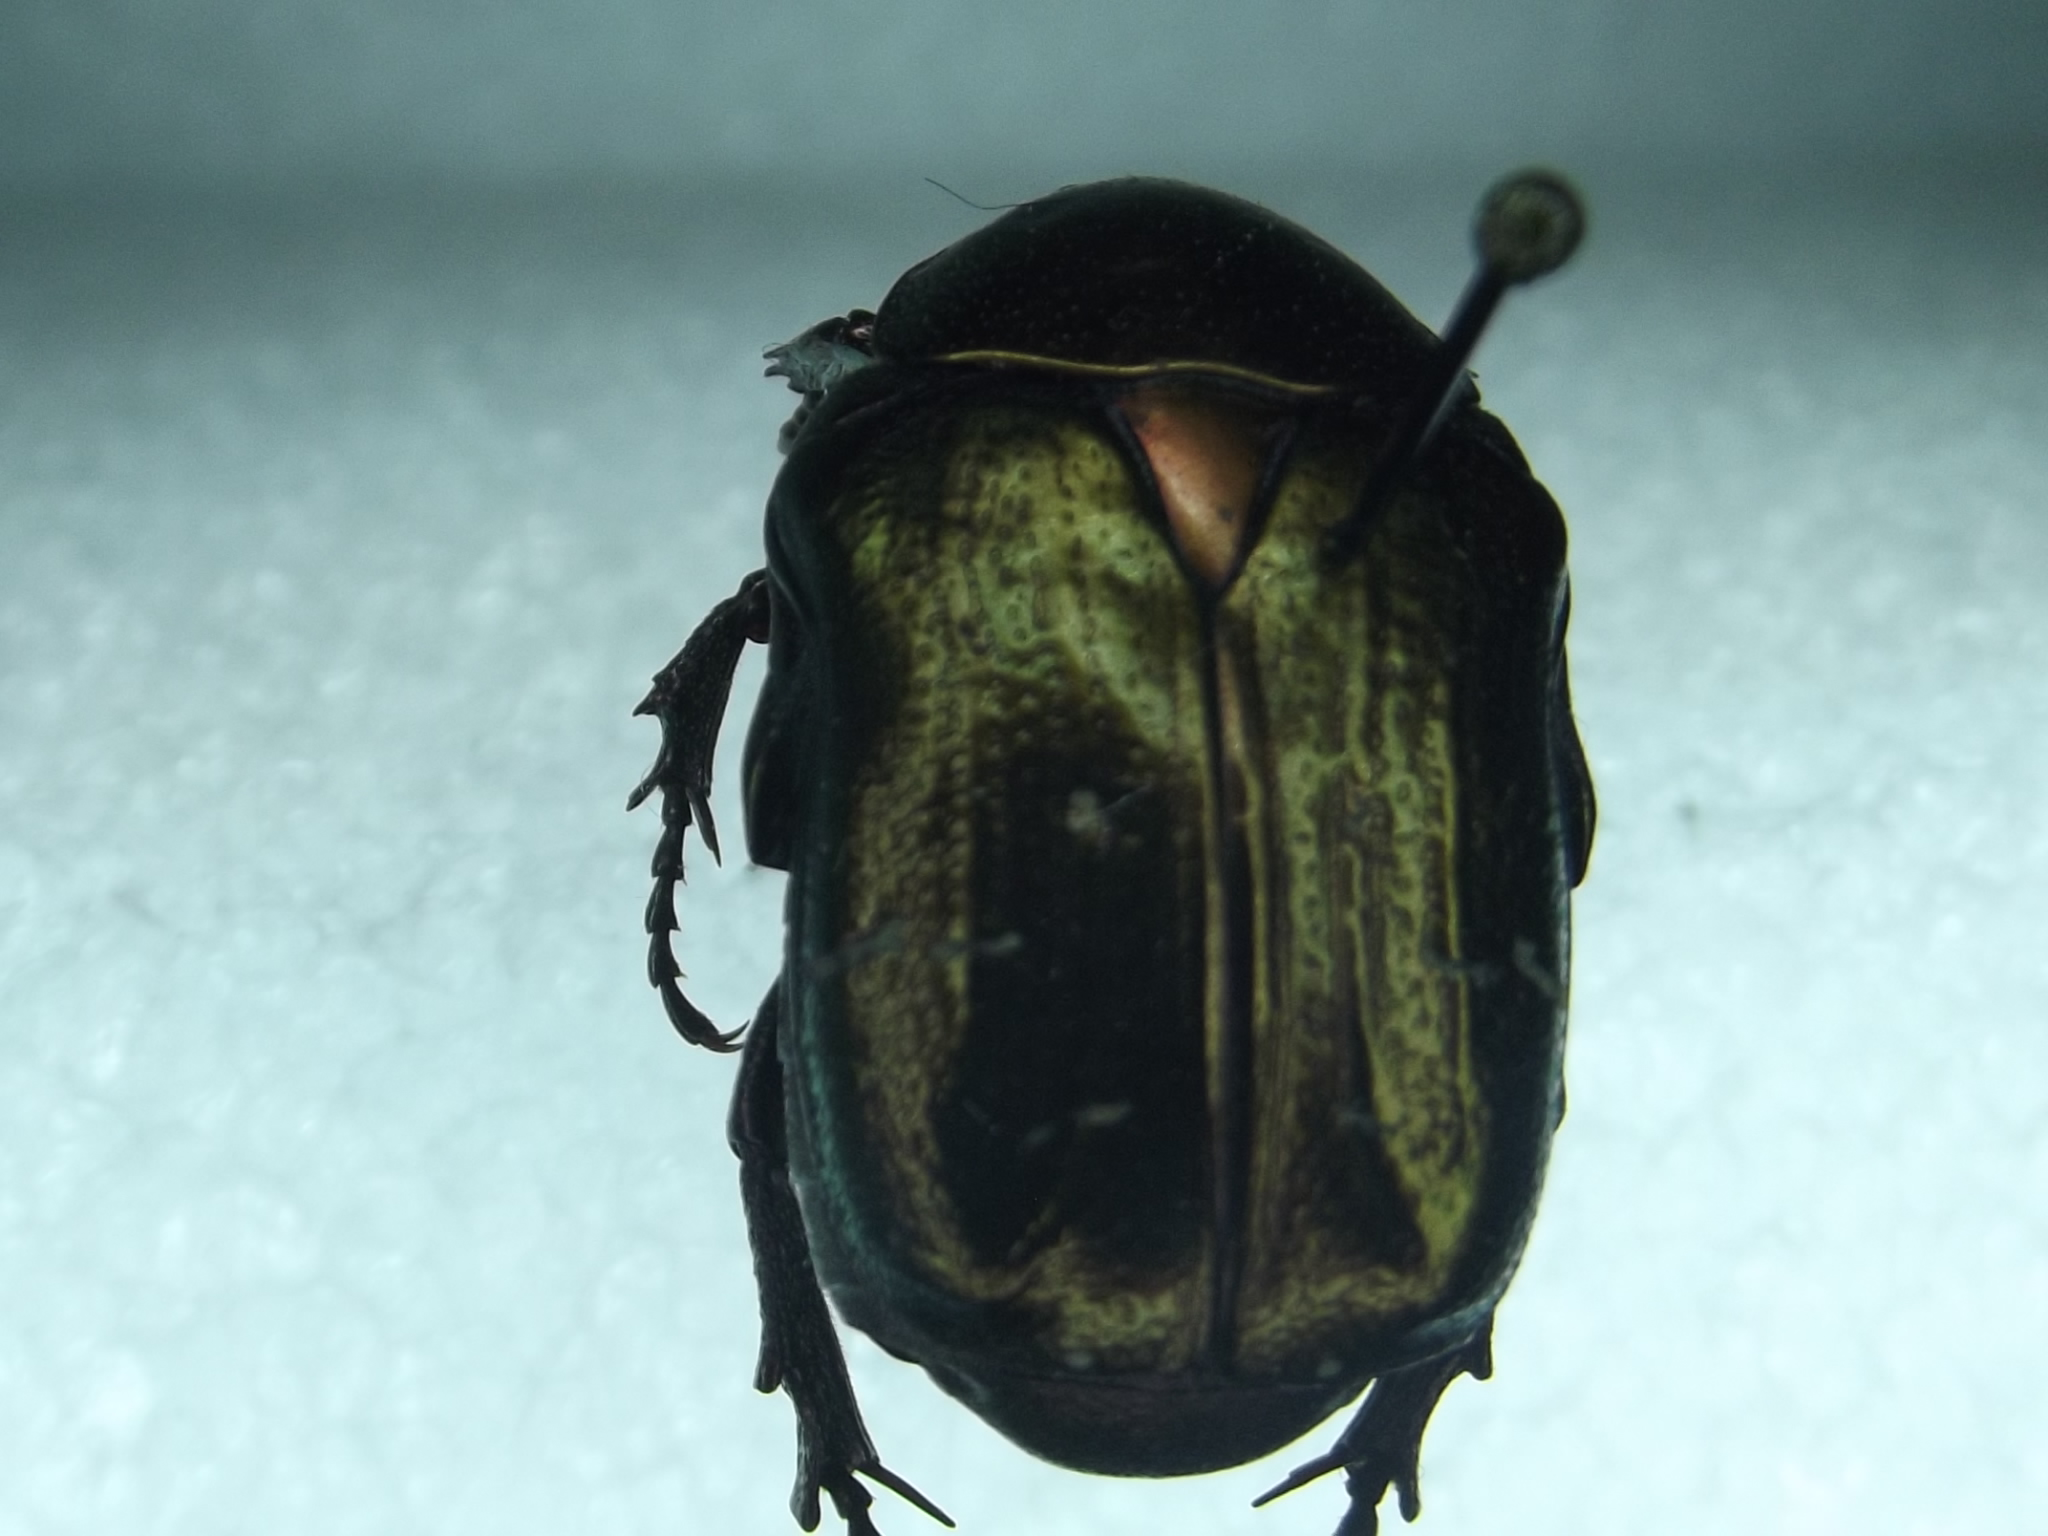Cetonia_kemali: (600, 157, 1624, 1536)
